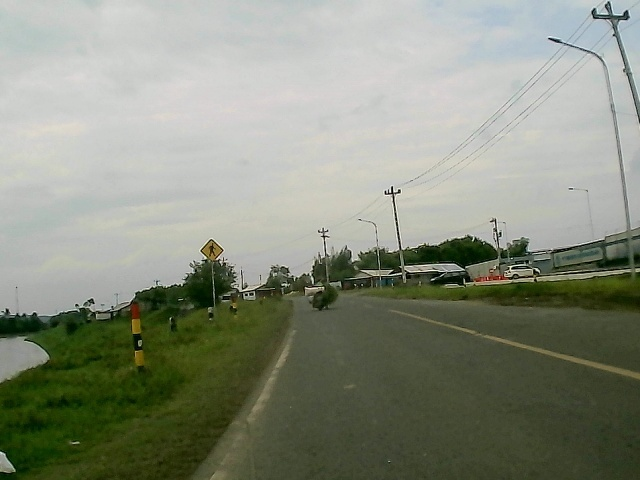Peringatan orang menyeberang: (198, 236, 225, 264)
